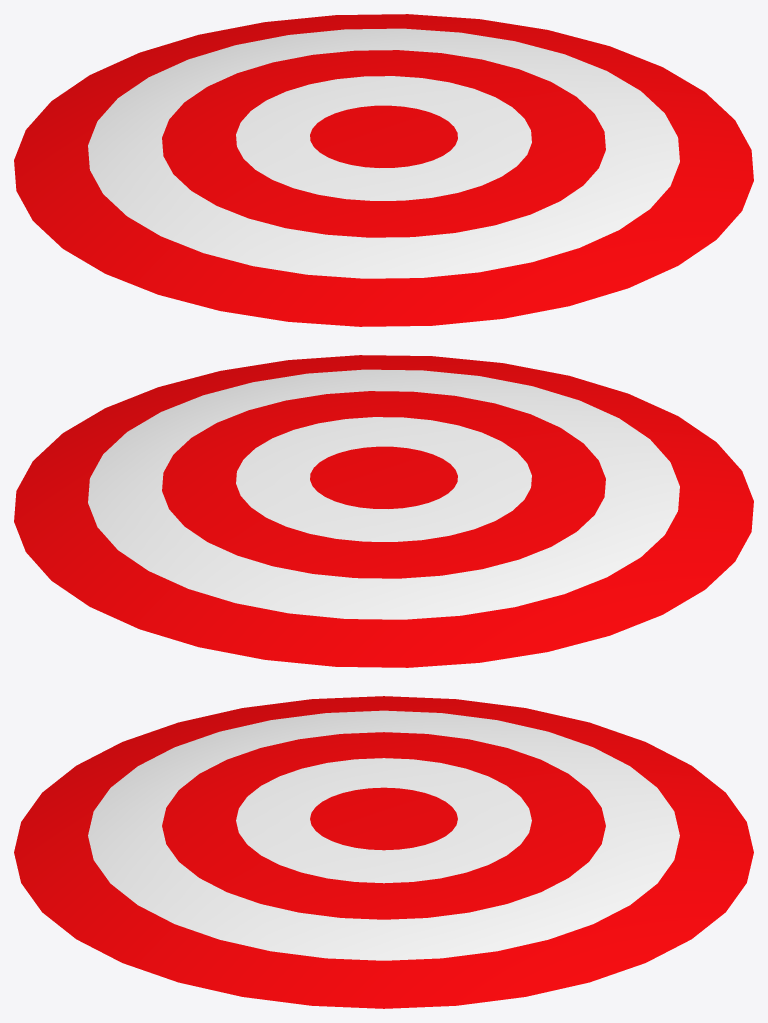
File: target.fbx
The picture shows the model from 3 angles, top to bottom: view 1: azimuth 30°, elevation 25°; view 2: azimuth 150°, elevation 25°; view 3: azimuth 270°, elevation 25°; orthographic projection.
Parts seen in each view (by area): view 1: Circle.001; view 2: Circle.001; view 3: Circle.001.
Boxes of the visible parts, bbox=[...] form: Circle.001: bbox=[14, 14, 753, 326]; Circle.001: bbox=[14, 355, 753, 667]; Circle.001: bbox=[14, 696, 753, 1008].
Size of the model in its own units: 200 by 10 by 200.
